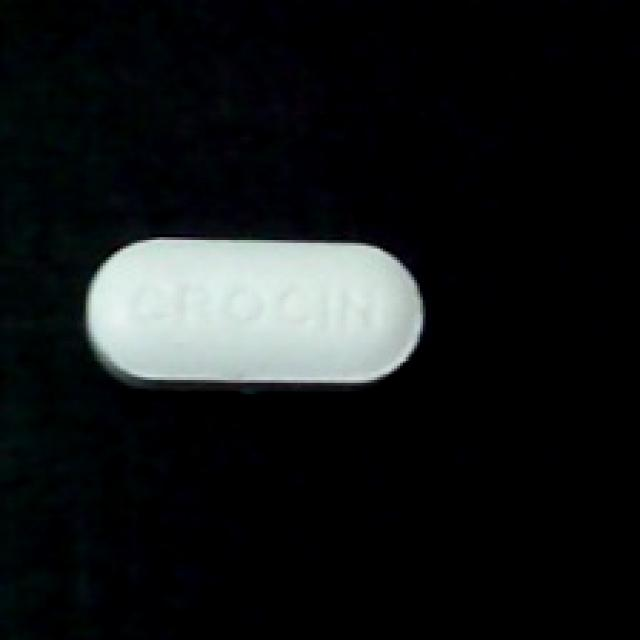no-defect: (69, 229, 440, 397)
